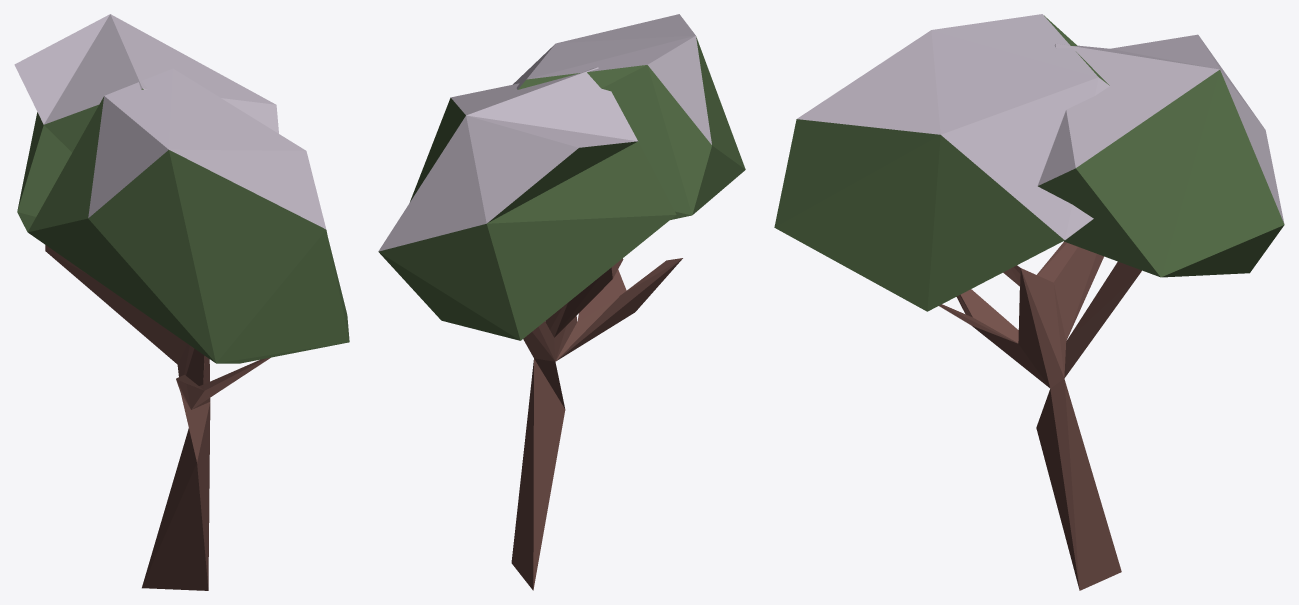
Rendered from CommonTree_Snow_5.lod3.glb.
The picture shows the model from 3 angles, left to right: view 1: azimuth 30°, elevation 25°; view 2: azimuth 150°, elevation 25°; view 3: azimuth 270°, elevation 25°; orthographic projection. The views are drawn at different scales.
Parts seen in each view (by area): view 1: CommonTree_Snow_5; view 2: CommonTree_Snow_5; view 3: CommonTree_Snow_5.
Part boxes in pixels (x1=…): CommonTree_Snow_5: x1=14, y1=14, x2=349, y2=590; CommonTree_Snow_5: x1=378, y1=14, x2=745, y2=590; CommonTree_Snow_5: x1=774, y1=14, x2=1284, y2=590.
Bounding box in the file's own units: 1.31 × 2.54 × 2.25.
